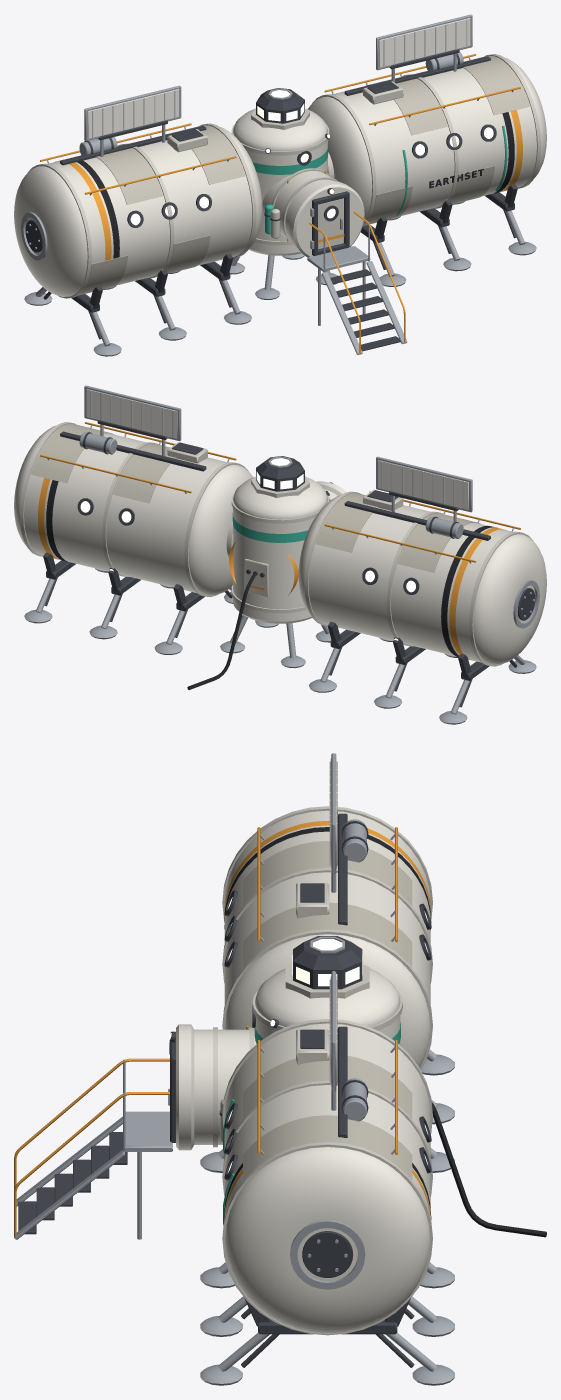
File: habitat_v4.glb
3 renders of one model, top to bottom at view 1: azimuth 30°, elevation 25°; view 2: azimuth 150°, elevation 25°; view 3: azimuth 270°, elevation 25°, orthographic. The views are drawn at different scales.
Parts seen in each view (by area): view 1: body; view 2: body; view 3: body.
Boxes of the visible parts, x1,y1,x2,y2 form: body: (14, 14, 546, 356); body: (14, 385, 546, 724); body: (14, 753, 546, 1385).
Size of the model in its own units: 14.47 by 5.9 by 8.79.
